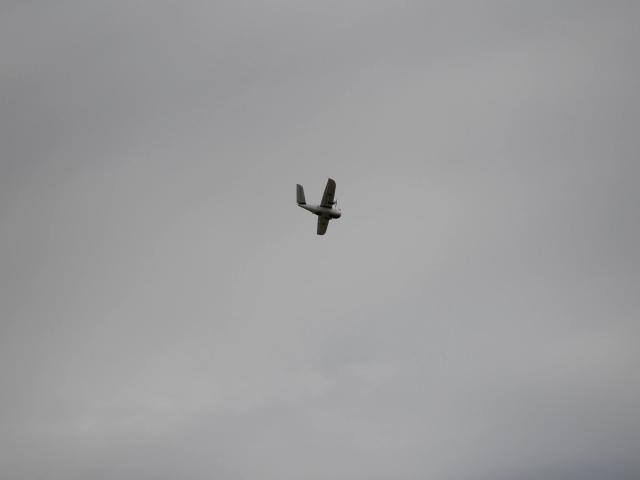plane: (296, 179, 343, 238)
